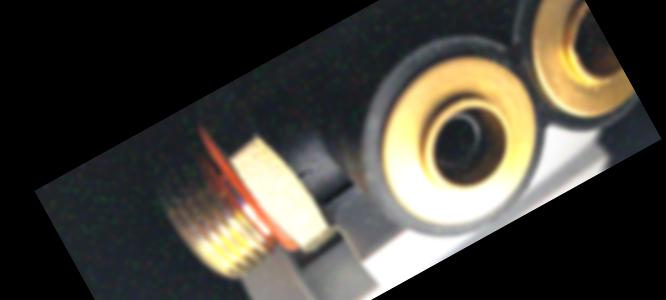craze: (295, 163, 322, 188)
joint line: (299, 145, 332, 169)
